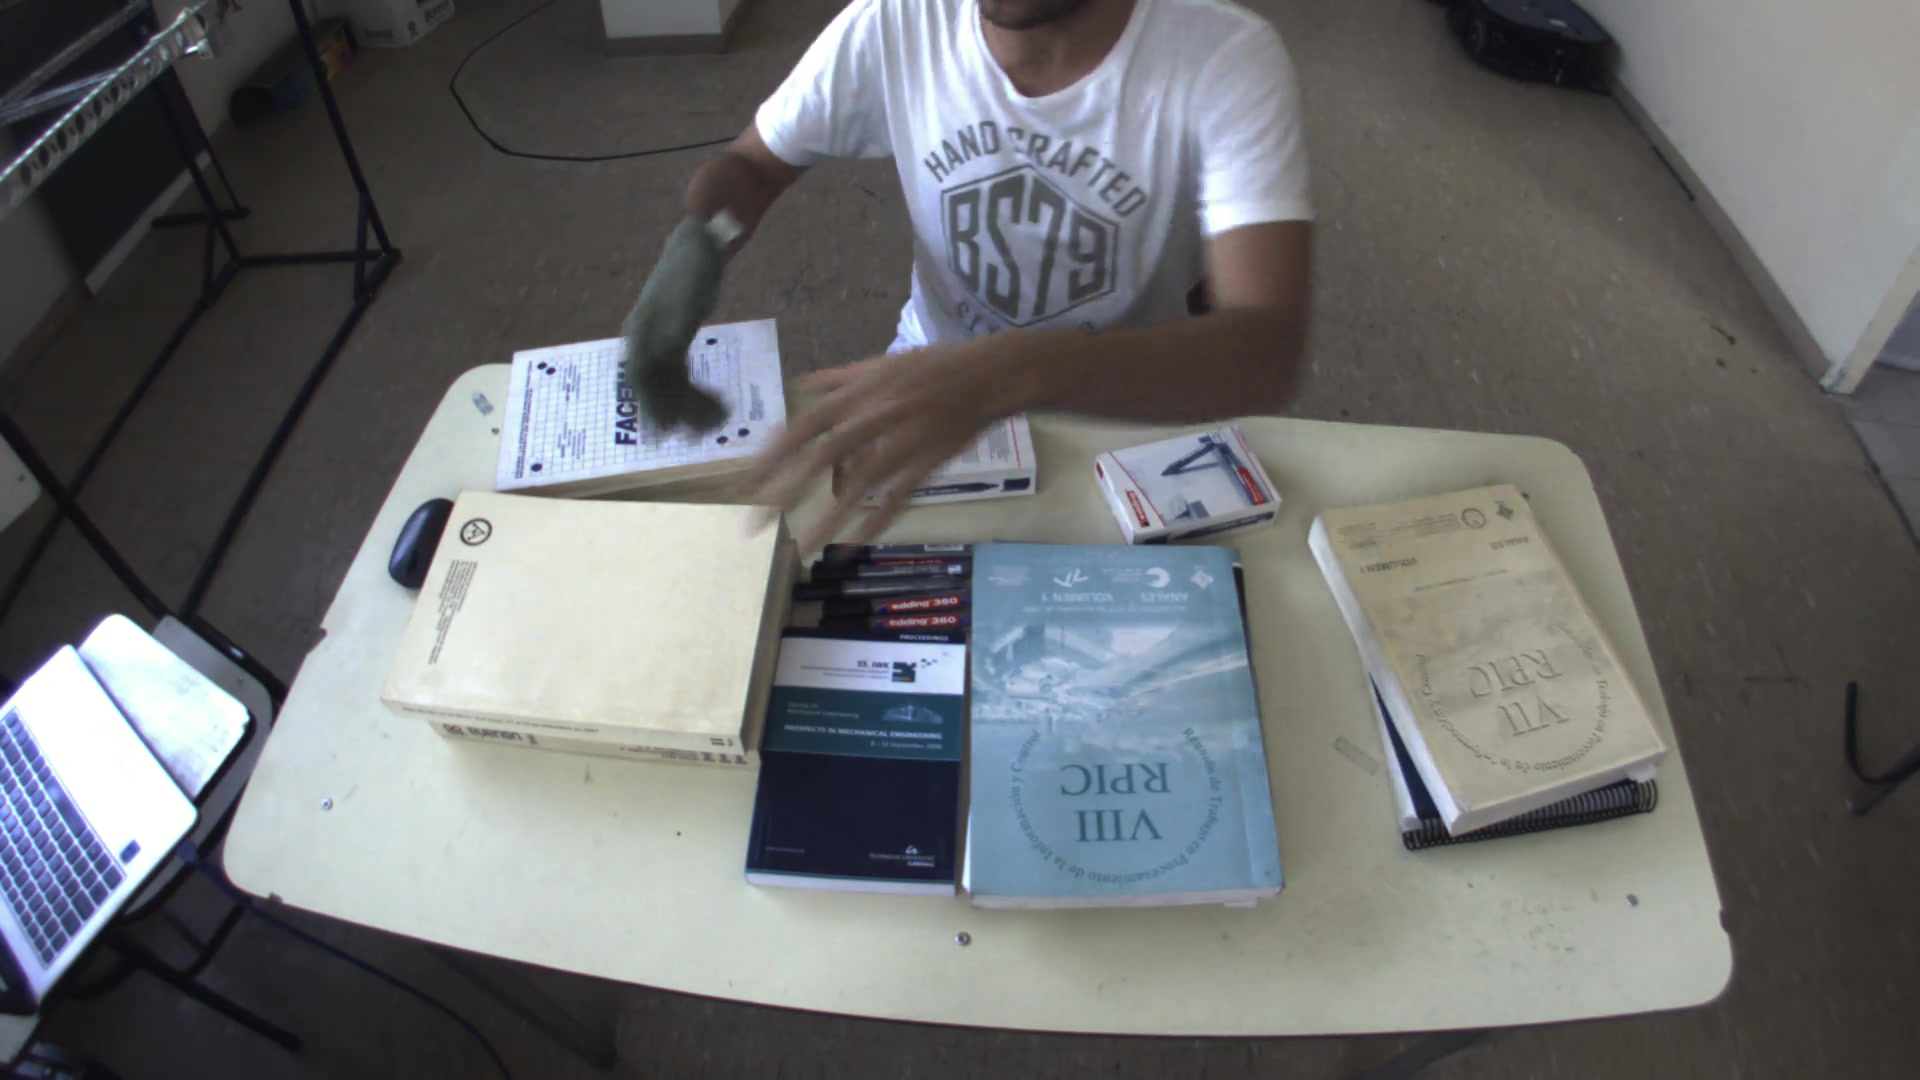hand: (733, 332, 990, 556), (613, 208, 731, 404)
